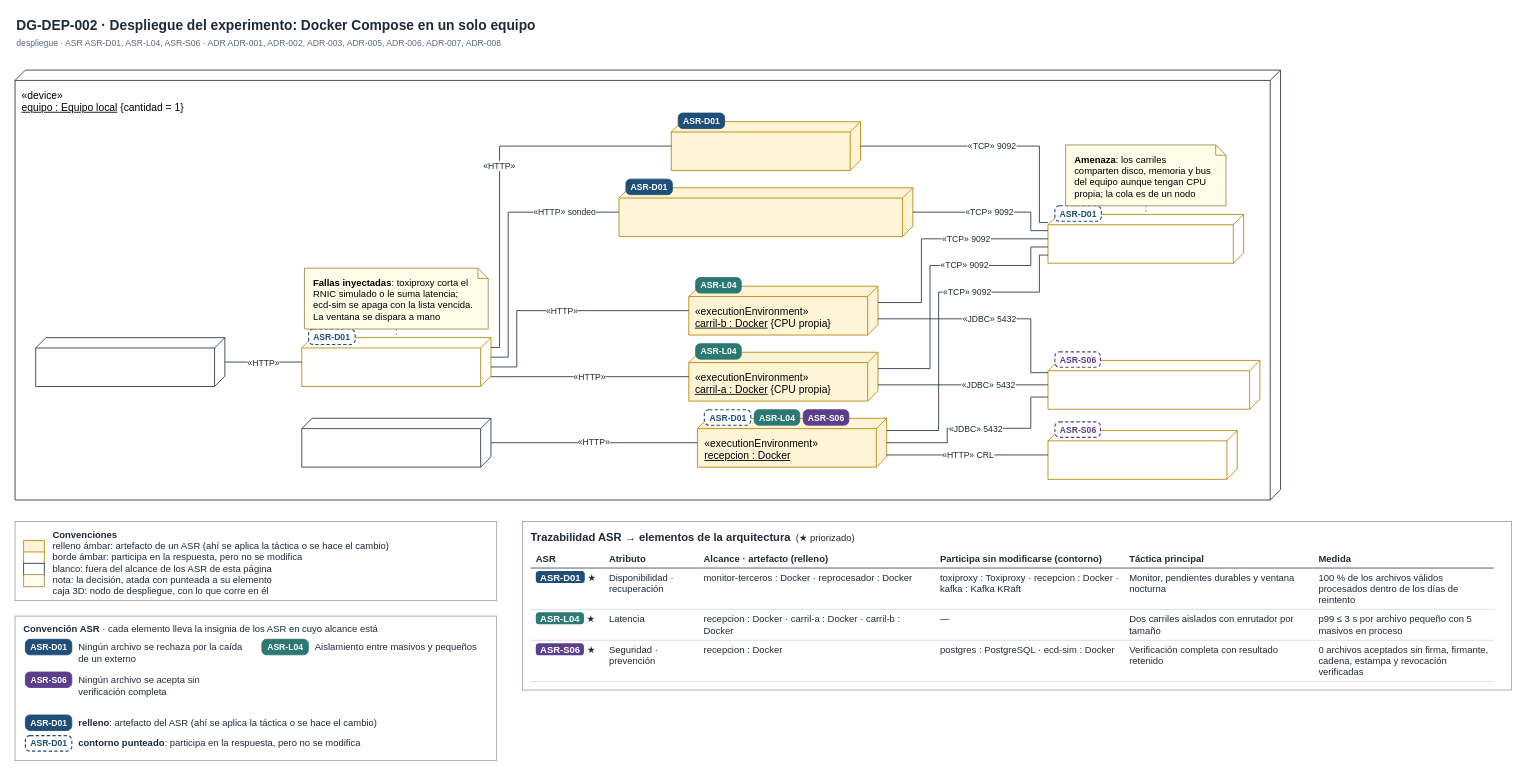
Some shapes in this 1527 by 776 pixel diagram are drawn without their labels. The shapes that lost their labels are listed below. From the top down, each one's centre as x and y in pixels, then its label:
the point at 765,146: «executionEnvironment» reprocesador : Docker
the point at 765,212: «executionEnvironment» monitor-terceros : Docker {after(sondeo TBD) · dedup}
the point at 1145,238: «executionEnvironment» kafka : Kafka KRaft {réplicas = 1}
the point at 130,361: «executionEnvironment» tercero-rnic-sim : Docker
the point at 396,361: «executionEnvironment» toxiproxy : Toxiproxy
the point at 1153,384: «executionEnvironment» postgres : PostgreSQL {réplicas = 1}
the point at 396,442: «executionEnvironment» generador-carga : k6
the point at 1142,454: «executionEnvironment» ecd-sim : Docker
